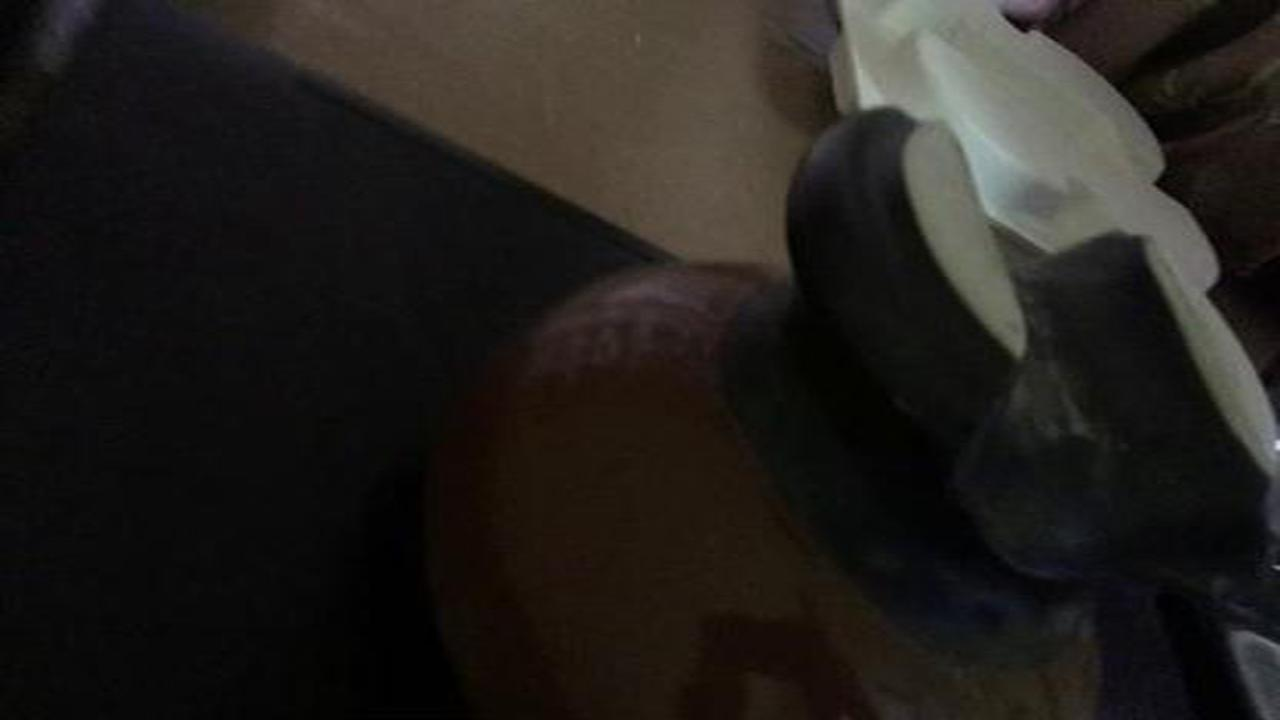insulator_pin: (404, 106, 1280, 720)
